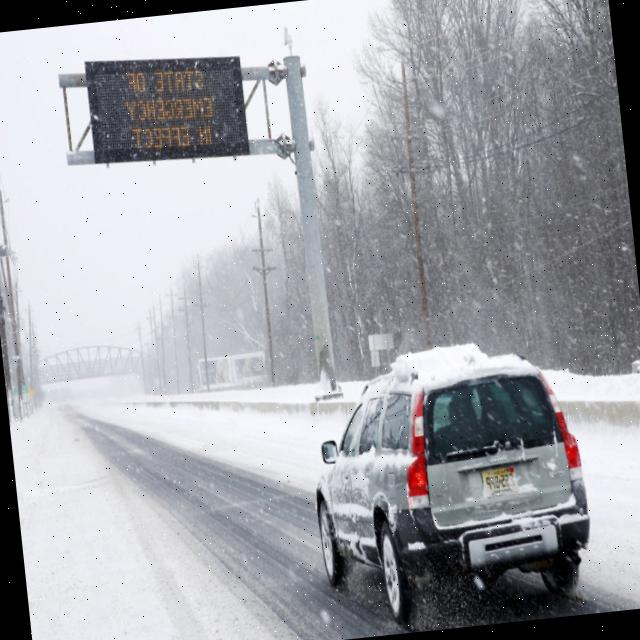car: (293, 331, 602, 637)
